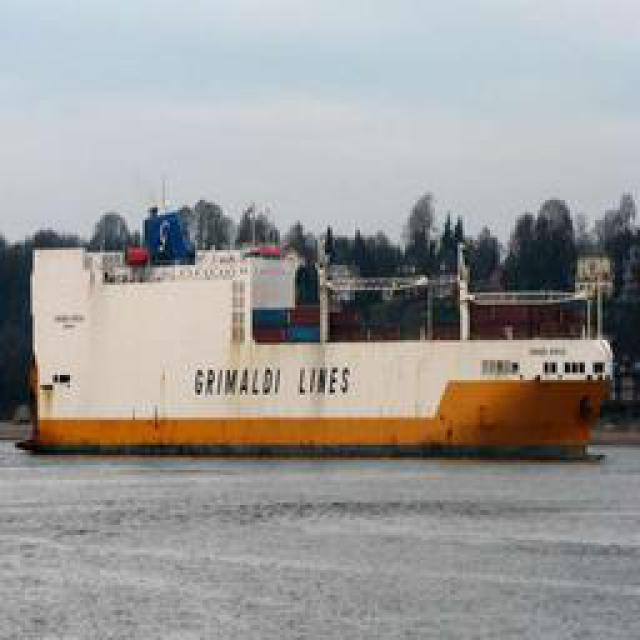Ship: (27, 221, 610, 449)
